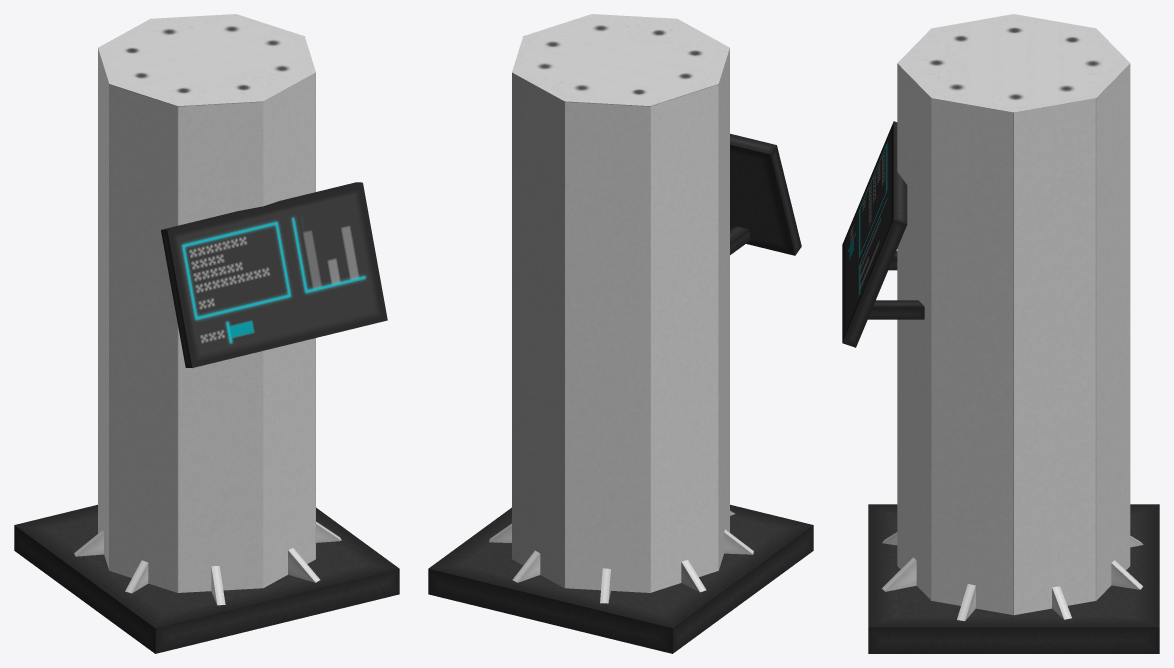
File: windgen_base_disable.obj
3 views of the same model, side by side, from view 1: azimuth 30°, elevation 25°; view 2: azimuth 150°, elevation 25°; view 3: azimuth 270°, elevation 25° (orthographic). The views are drawn at different scales.
Visible parts, largest first — view 1: windgen_base; view 2: windgen_base; view 3: windgen_base.
Part boxes in pixels (left/top/right/bottom): windgen_base: left=14, top=14, right=399, bottom=653; windgen_base: left=428, top=14, right=813, bottom=653; windgen_base: left=842, top=14, right=1159, bottom=653.
Size of the model in its own units: 1 by 2 by 1.09.
